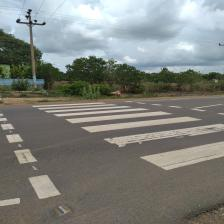crossing: (103, 123, 223, 148), (139, 140, 224, 170), (80, 116, 202, 133), (65, 110, 173, 124), (52, 107, 150, 117), (28, 174, 61, 199)
